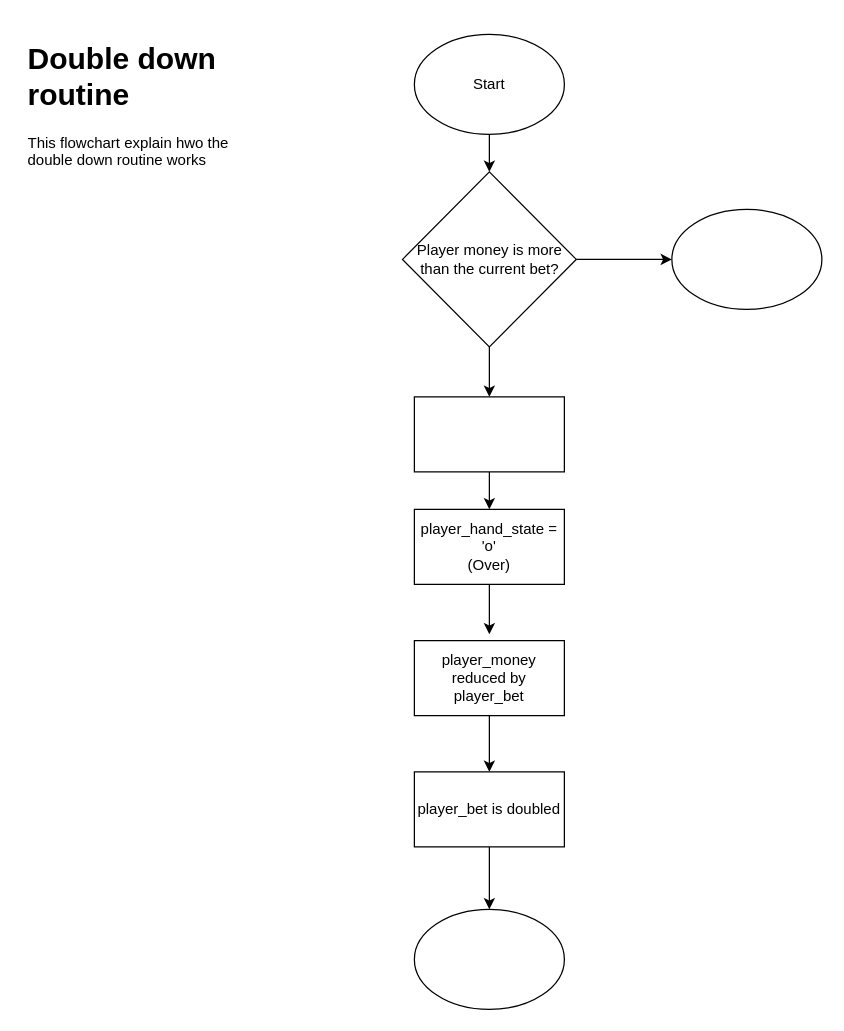
The diagram is 844 pixels wide and 1031 high, and some of its shapes have lost their labels. The shapes that lost their labels are listed below. From the top down, each one's centre as x and y in pixels, then its label:
At (x=746, y=258): "END (Not allowed)".
At (x=488, y=434): "Deal another card to the player hand".
At (x=488, y=958): "END (allowed)".
